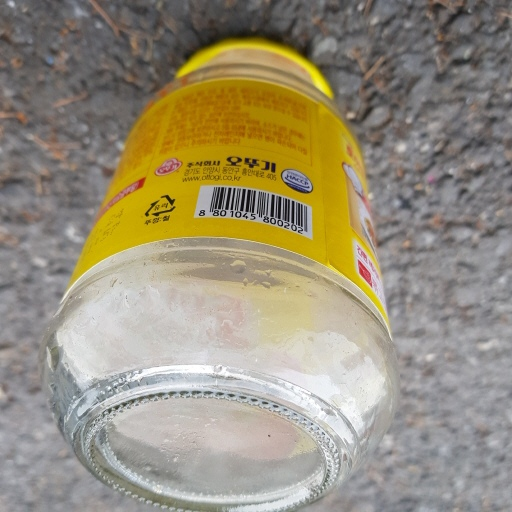Glass_5: (37, 37, 399, 512)
